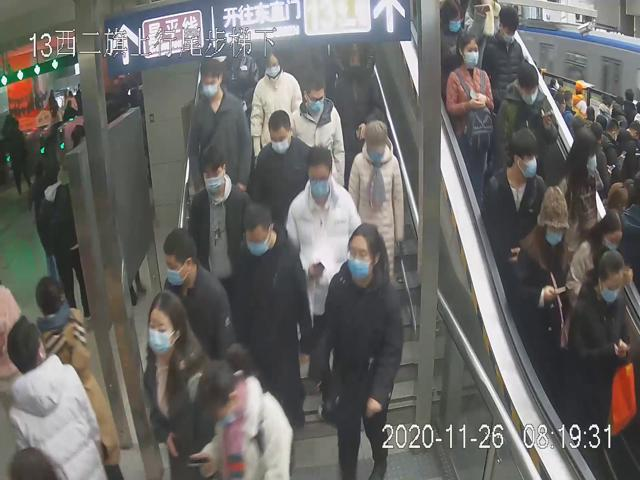person: (316, 219, 405, 476), (228, 202, 313, 462), (285, 145, 363, 376), (143, 291, 222, 478), (569, 251, 633, 457), (347, 120, 404, 316), (512, 184, 569, 375), (185, 144, 252, 283), (187, 55, 252, 198), (163, 226, 229, 364), (480, 126, 545, 256), (445, 28, 494, 200), (286, 72, 345, 194), (251, 112, 316, 216), (250, 48, 303, 153)
